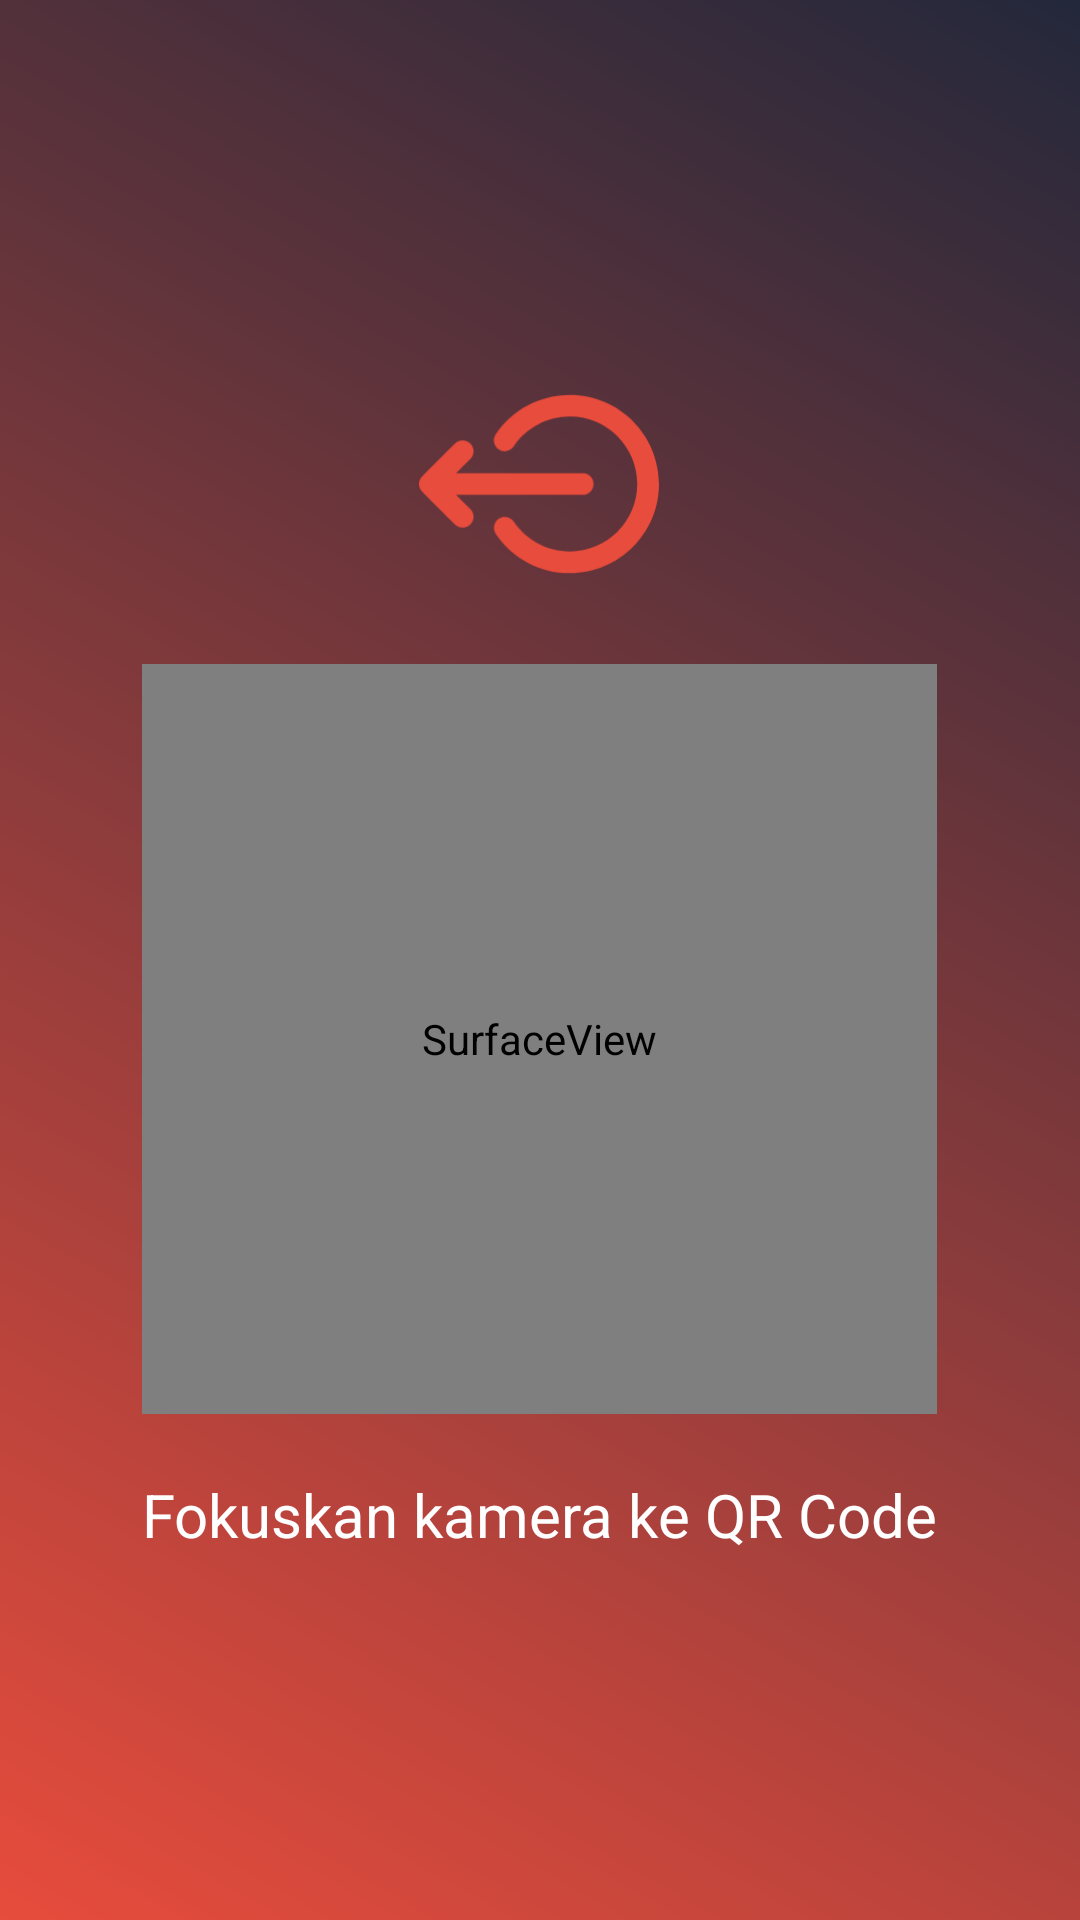

Named icons in this screenshot (1080px×1920px) and their bounding boxes, (x1, y1, x2, y2):
keluar parkir: (419, 364, 659, 595)
